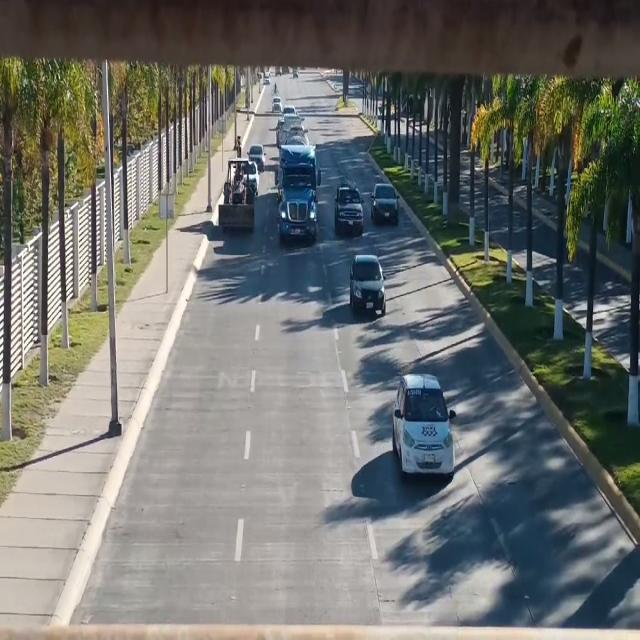Auto: (392, 375, 456, 482), (348, 256, 385, 320), (334, 190, 365, 237), (372, 185, 402, 227)
